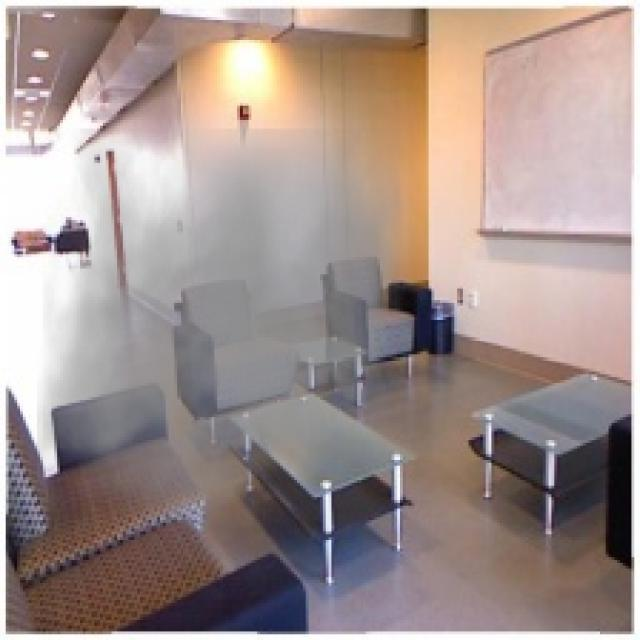Smoke: (37, 128, 406, 543)
